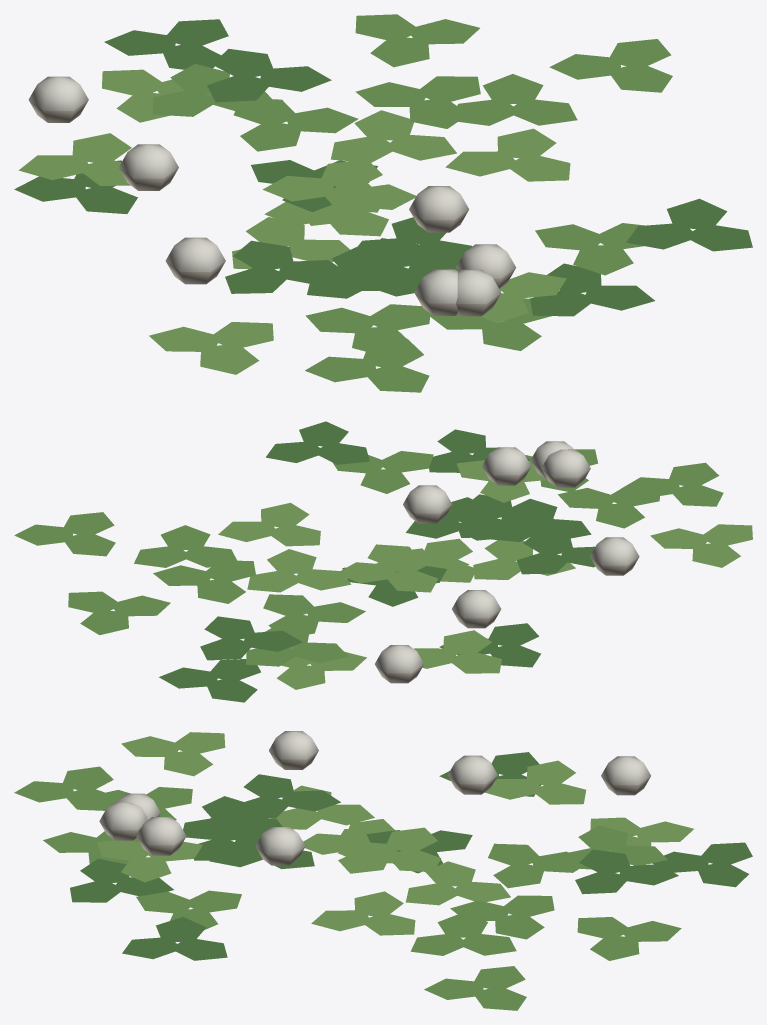
File: ring_clover.glb
3 renders of one model, top to bottom at view 1: azimuth 30°, elevation 25°; view 2: azimuth 150°, elevation 25°; view 3: azimuth 270°, elevation 25°, orthographic. The views are drawn at different scales.
Parts seen in each view (by area): view 1: body_nh, body_nl; view 2: body_nh, body_nl; view 3: body_nh, body_nl.
Boxes of the visible parts, bbox=[...] form: body_nh: bbox=[14, 14, 752, 392]; body_nl: bbox=[28, 76, 516, 316]; body_nh: bbox=[14, 421, 752, 702]; body_nl: bbox=[375, 441, 639, 683]; body_nh: bbox=[14, 732, 752, 1010]; body_nl: bbox=[99, 731, 650, 865].
Bounding box in the file's own units: 8.41 × 0.526 × 9.39.
